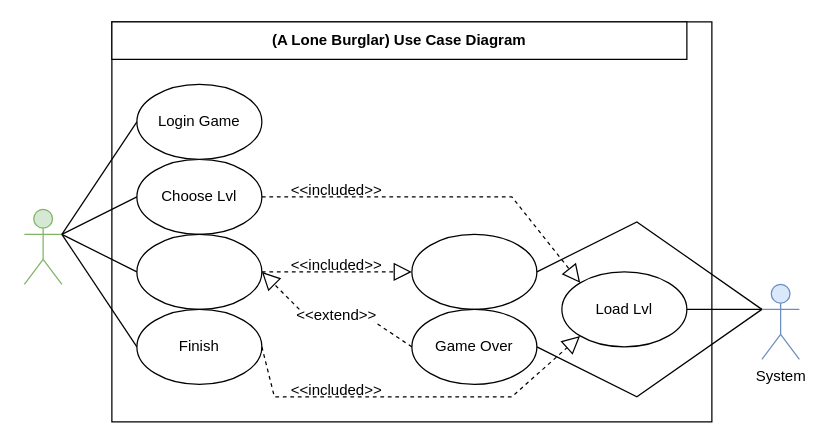
The diagram is 828 pixels wide and 444 high, and some of its shapes have lost their labels. Each missing label, with the centre of its shape:
"Guard Patrol" belongs at pixel 474 271.
"Play Lvl" belongs at pixel 199 271.
"Player" belongs at pixel 42 246.
